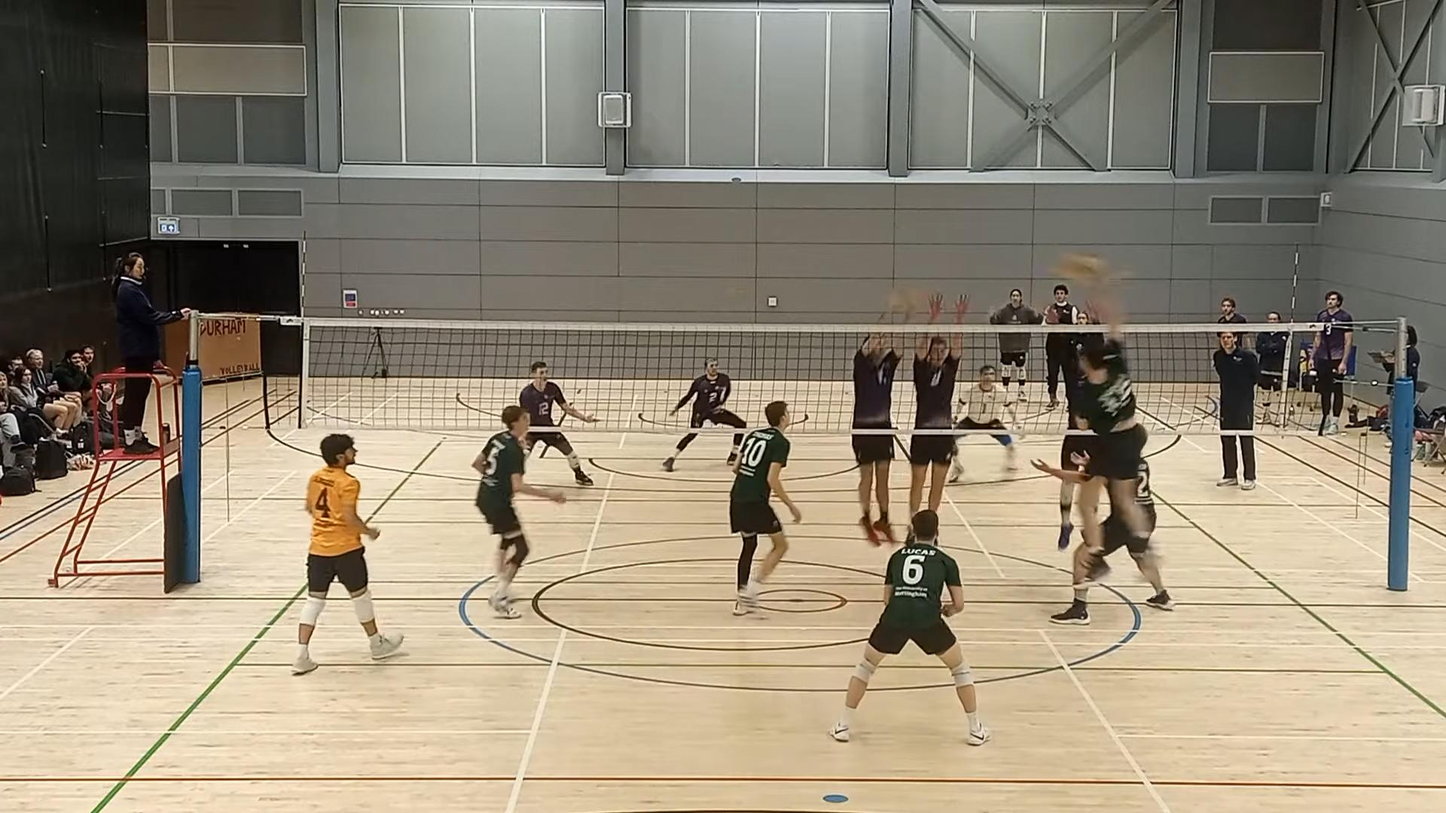Attack: (1072, 275, 1163, 578)
Block: (899, 286, 971, 556), (846, 286, 909, 553)
Player: (831, 510, 990, 745), (291, 434, 404, 674), (472, 406, 565, 618), (730, 401, 801, 614), (1051, 506, 1173, 624), (519, 362, 596, 486), (955, 364, 1016, 471), (672, 358, 746, 429), (1060, 397, 1093, 471)
